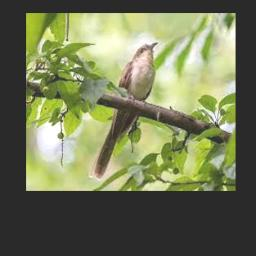Cuckoo: (88, 42, 159, 180)
